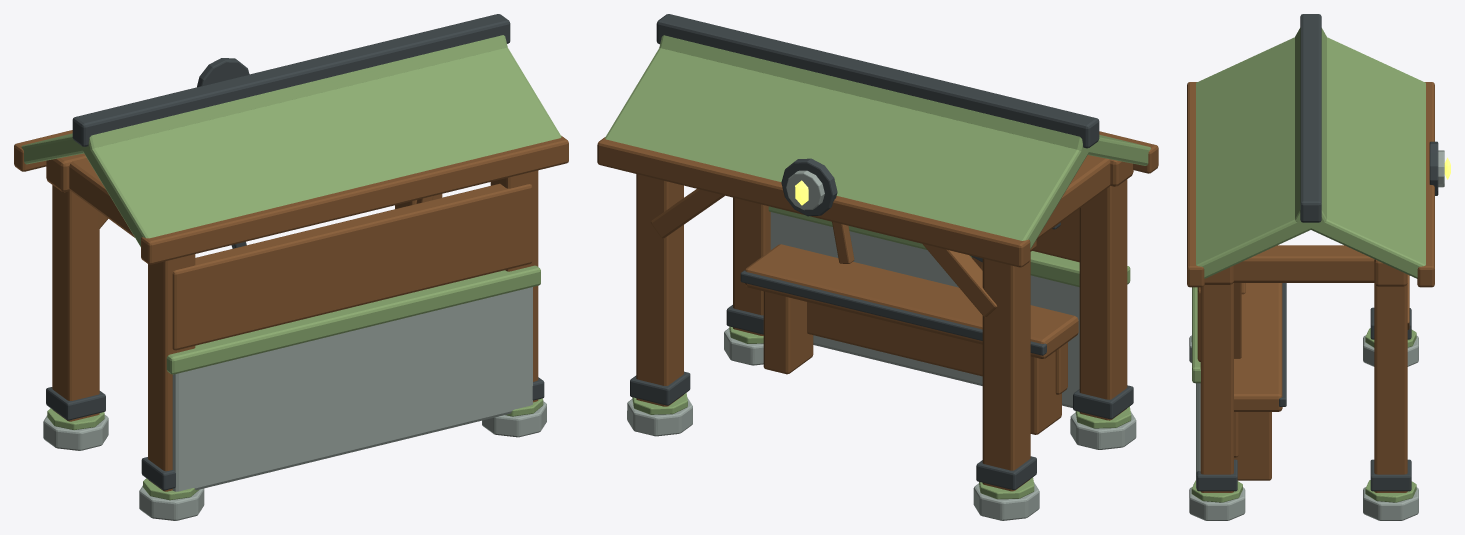
The model's file is SM_EmbermereFenwatchTrainingWorkshop_01.fbx.
The picture shows the model from 3 angles, left to right: view 1: azimuth 30°, elevation 25°; view 2: azimuth 150°, elevation 25°; view 3: azimuth 270°, elevation 25°; orthographic projection. The views are drawn at different scales.
Visible parts, largest first — view 1: SM_EmbermereFenwatchTrainingWorkshop_01; view 2: SM_EmbermereFenwatchTrainingWorkshop_01; view 3: SM_EmbermereFenwatchTrainingWorkshop_01.
Part boxes in pixels (left/top/right/bottom): SM_EmbermereFenwatchTrainingWorkshop_01: left=14, top=14, right=568, bottom=520; SM_EmbermereFenwatchTrainingWorkshop_01: left=597, top=14, right=1158, bottom=520; SM_EmbermereFenwatchTrainingWorkshop_01: left=1187, top=14, right=1450, bottom=520.
Size of what is drawn, in the model's own units: 460 by 270 by 369.
